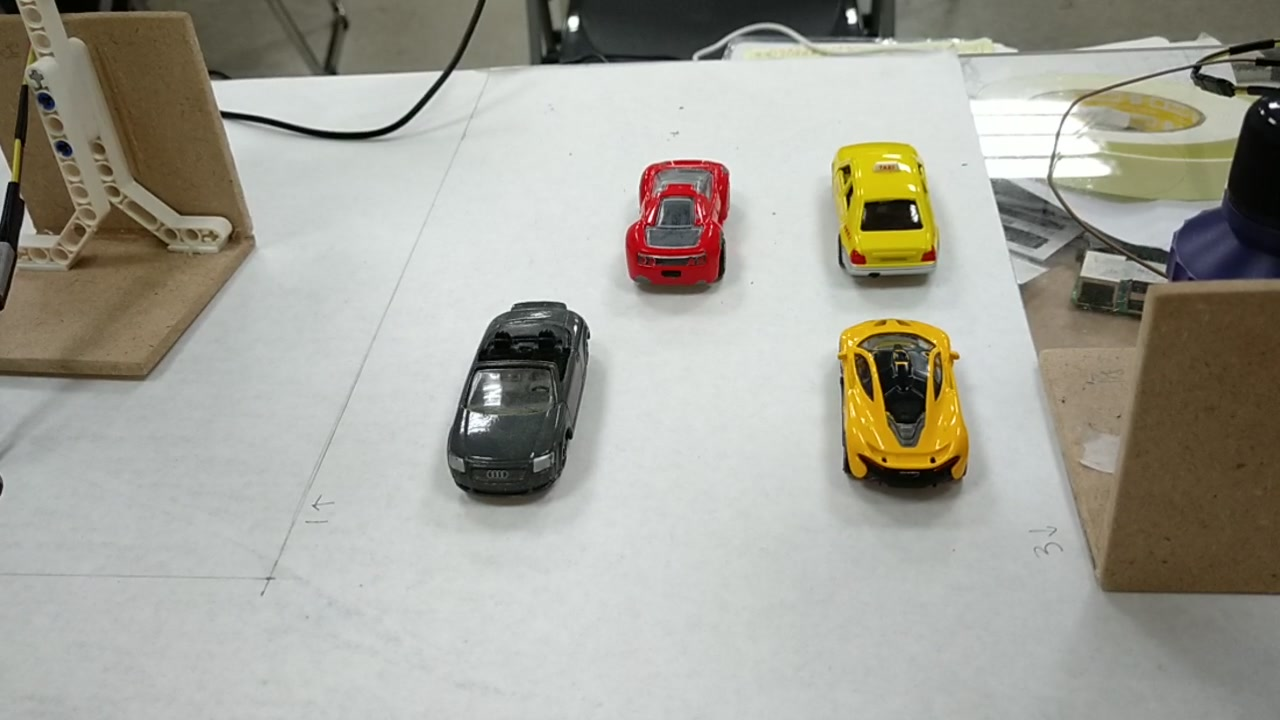car: (443, 306, 588, 500), (841, 317, 971, 491), (625, 162, 739, 284), (838, 135, 938, 272)
